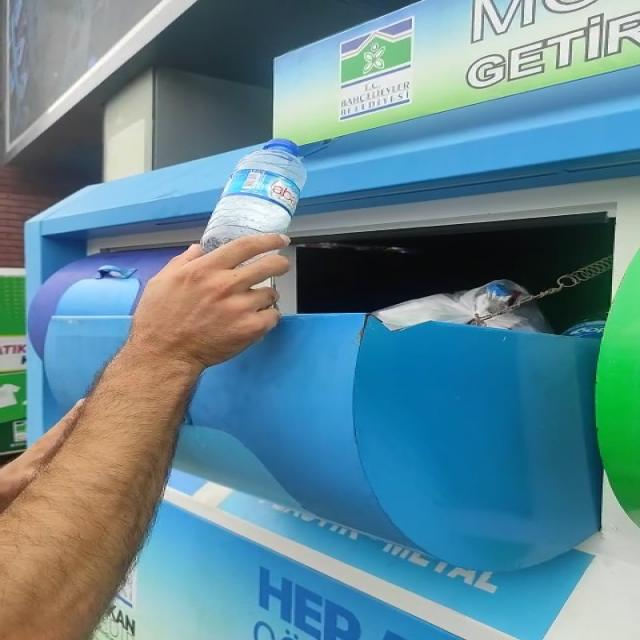plastic: (200, 140, 307, 251), (201, 140, 307, 251)
